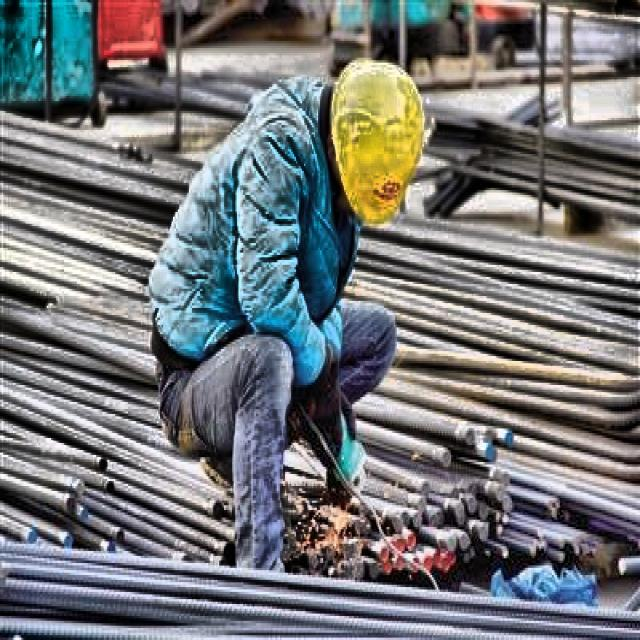helmet: (312, 41, 443, 226)
